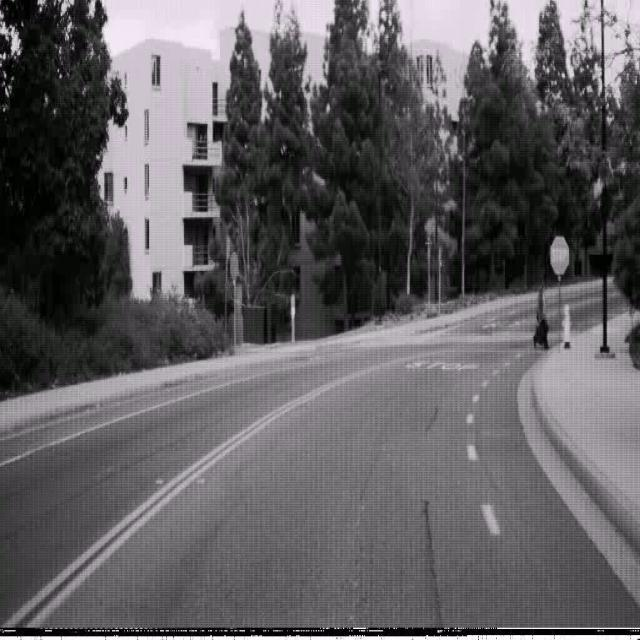stop: (550, 235, 570, 276)
